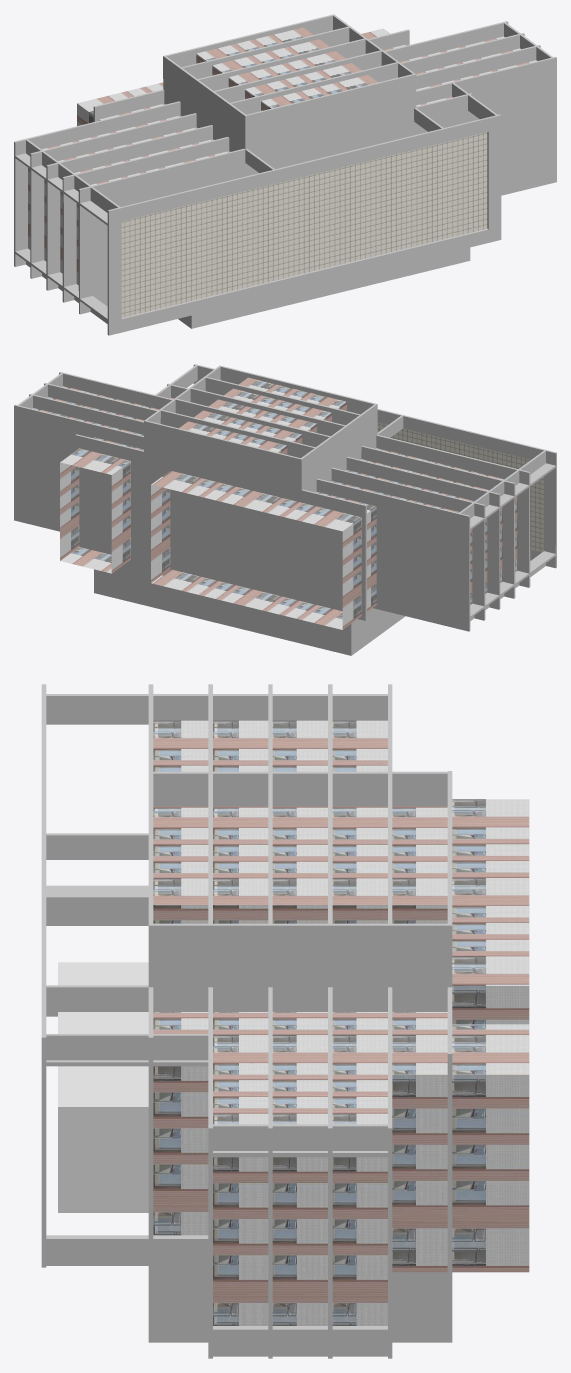
3 renders of one model, top to bottom at view 1: azimuth 30°, elevation 25°; view 2: azimuth 150°, elevation 25°; view 3: azimuth 270°, elevation 25°, orthographic. The views are drawn at different scales.
Parts seen in each view (by area): view 1: 1教师宿舍 4.001; view 2: 1教师宿舍 4.001; view 3: 1教师宿舍 4.001.
Boxes of the visible parts, <box> form: 1教师宿舍 4.001: <box>14,14,556,335</box>; 1教师宿舍 4.001: <box>14,364,556,655</box>; 1教师宿舍 4.001: <box>41,684,529,1358</box>.
Size of the model in its own units: 58.01 by 22.44 by 26.9.
4 materials, 2 textured.
